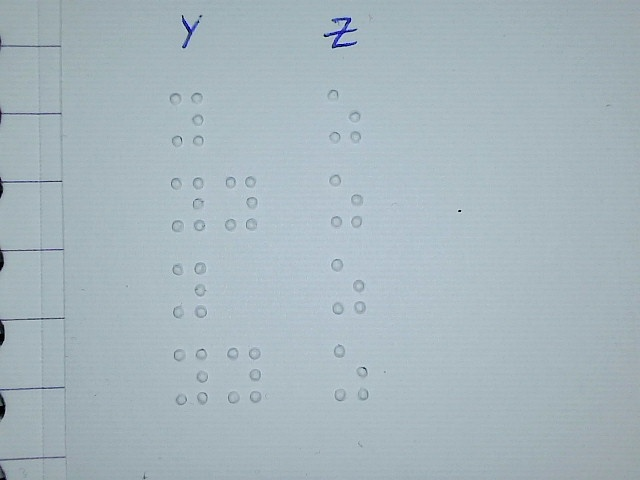Y: (168, 90, 204, 149), (223, 173, 259, 232), (171, 259, 207, 318), (226, 345, 262, 404)
Z: (326, 86, 362, 145), (328, 172, 364, 231), (329, 256, 365, 315), (332, 342, 368, 401)
